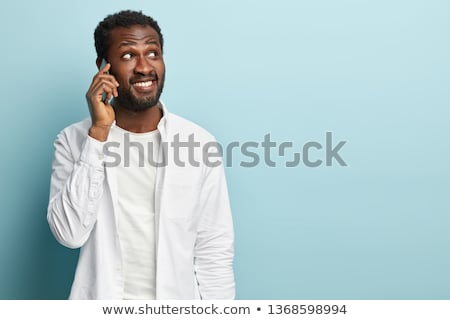phone: (96, 59, 119, 106)
talk: (84, 40, 165, 127)
